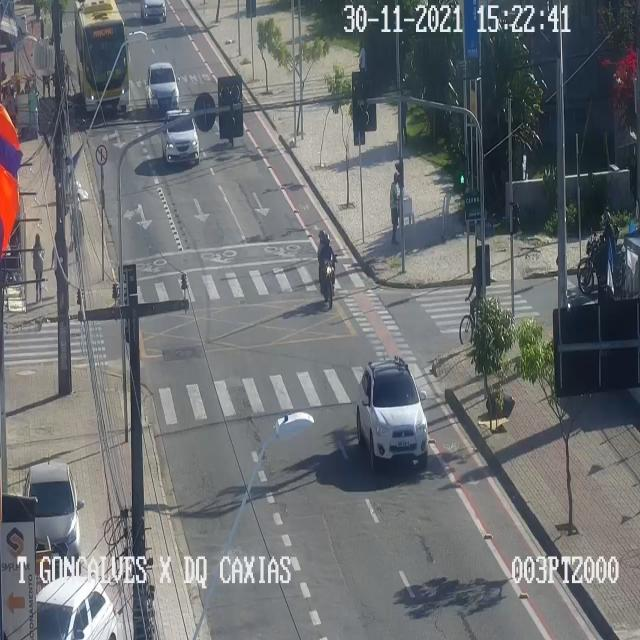Bus: (76, 0, 135, 122)
Car: (357, 359, 428, 473), (24, 465, 82, 558), (37, 578, 114, 639), (162, 111, 200, 161), (146, 62, 178, 108), (142, 0, 168, 28)
Motorcycle: (577, 203, 633, 297), (316, 231, 336, 311)
